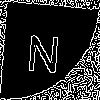N: (25, 25, 64, 74)
